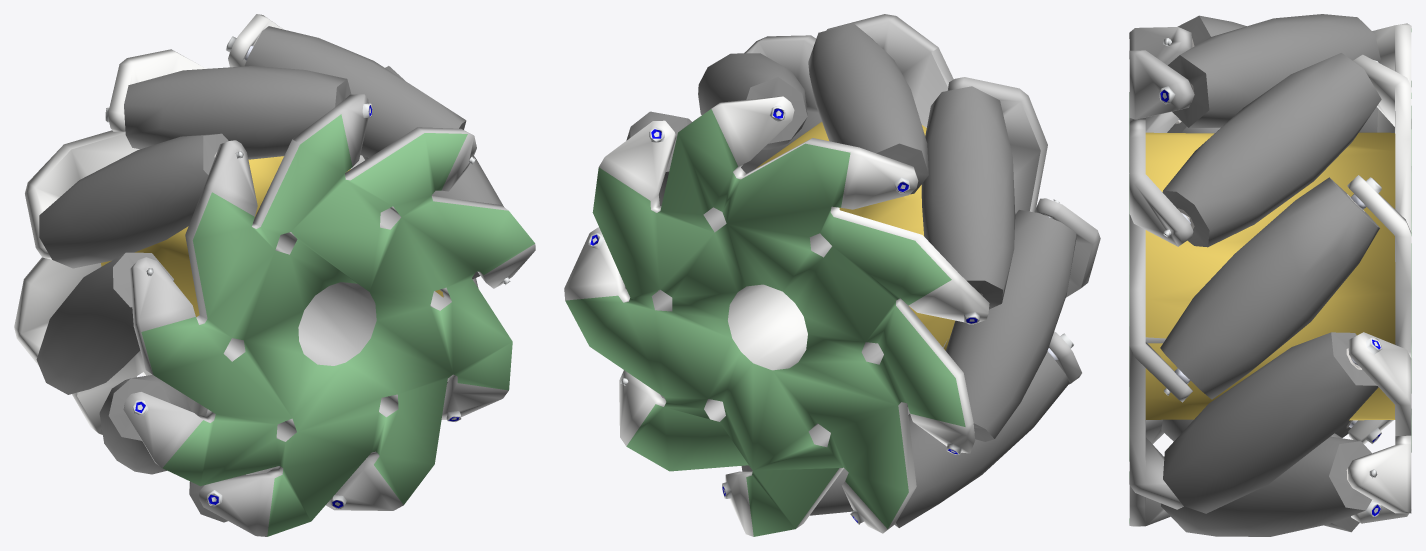
Rendered from mec-left-dec.fbx.
3 views of the same model, side by side, from view 1: azimuth 30°, elevation 25°; view 2: azimuth 150°, elevation 25°; view 3: azimuth 270°, elevation 25° (orthographic). The views are drawn at different scales.
Parts seen in each view (by area): view 1: Body1; view 2: Body1; view 3: Body1.
Part boxes in pixels (x1=…): Body1: x1=14, y1=14, x2=535, y2=536; Body1: x1=564, y1=14, x2=1100, y2=536; Body1: x1=1129, y1=14, x2=1411, y2=536.
Bounding box in the file's own units: 9.63 × 9.62 × 5.19.
